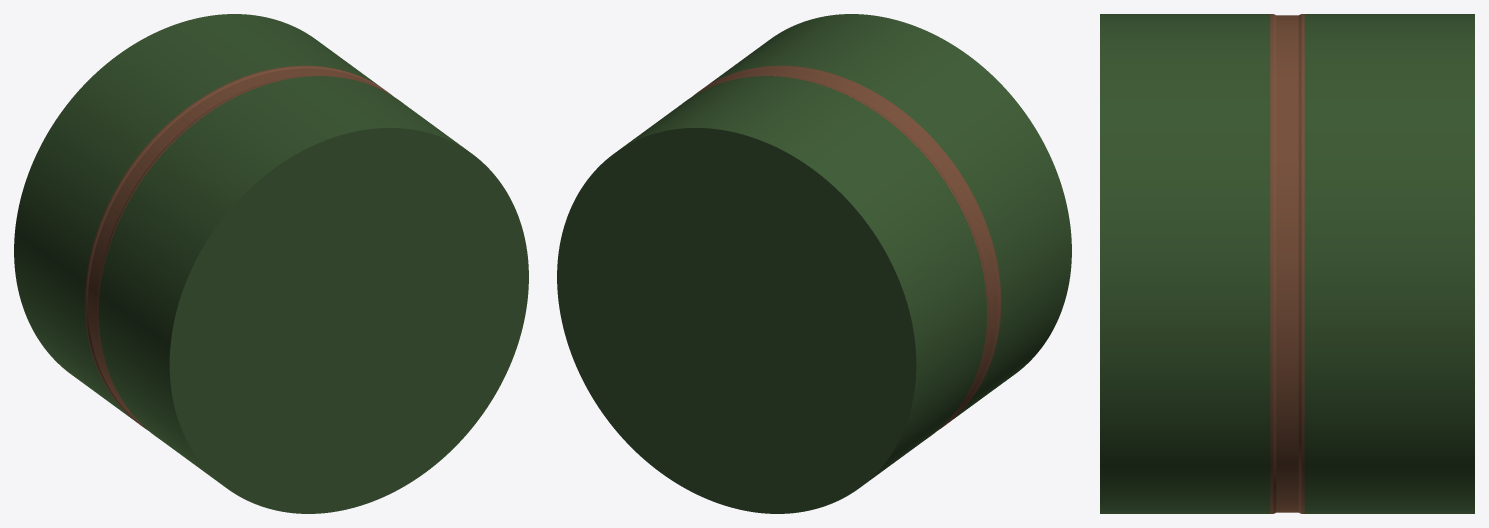
The model's file is planetMap.glb.
3 views of the same model, side by side, from view 1: azimuth 30°, elevation 25°; view 2: azimuth 150°, elevation 25°; view 3: azimuth 270°, elevation 25° (orthographic). The views are drawn at different scales.
Visible parts, largest first — view 1: Cylinder.003, Cylinder.001; view 2: Cylinder.003, Cylinder.001; view 3: Cylinder.003, Cylinder.001.
Boxes of the visible parts, <box> form: Cylinder.003: <box>14,14,528,513</box>; Cylinder.001: <box>84,65,393,433</box>; Cylinder.003: <box>557,14,1071,513</box>; Cylinder.001: <box>692,65,1001,433</box>; Cylinder.003: <box>1100,14,1474,513</box>; Cylinder.001: <box>1270,14,1304,513</box>.
Bounding box in the file's own units: 100 × 100 × 75.
